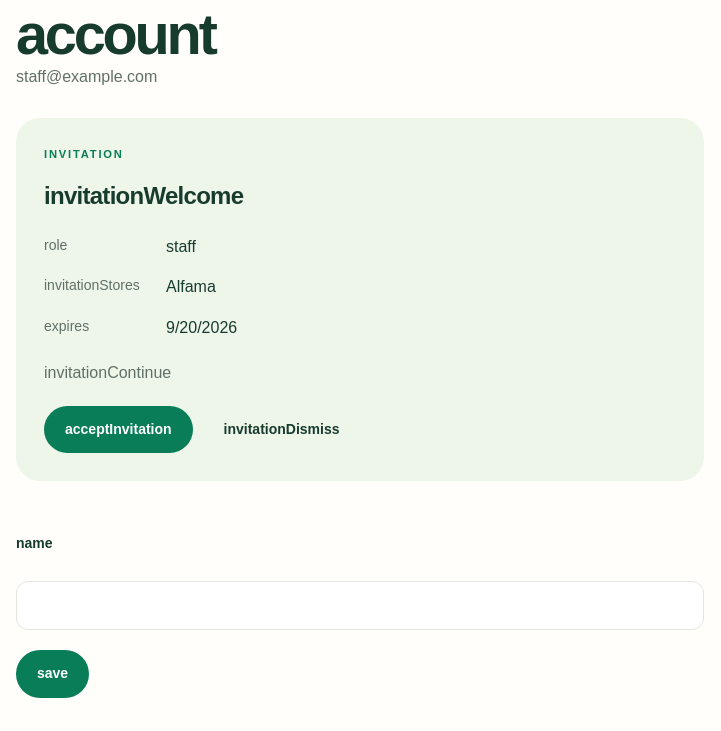
accepts with the existing aal1 session without starting another MFA challenge
Expected: the text "Alfama" is shown, top-left (166, 278), bottom-right (216, 295)
Click the button "acceptInvitation". click: (118, 430)
box: top-left (44, 406), bottom-right (193, 453)
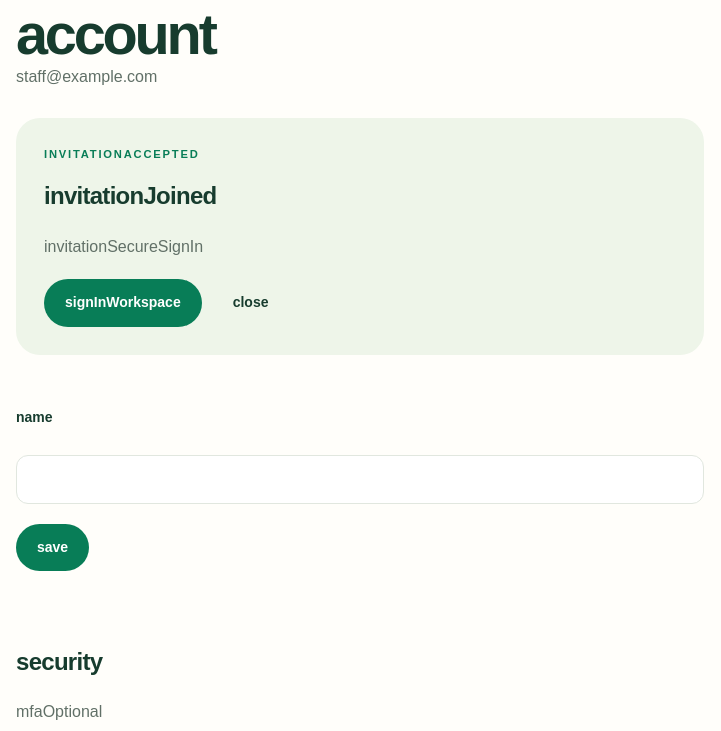
Expected: the text "invitationAccepted" is shown, top-left (44, 148), bottom-right (200, 160)
